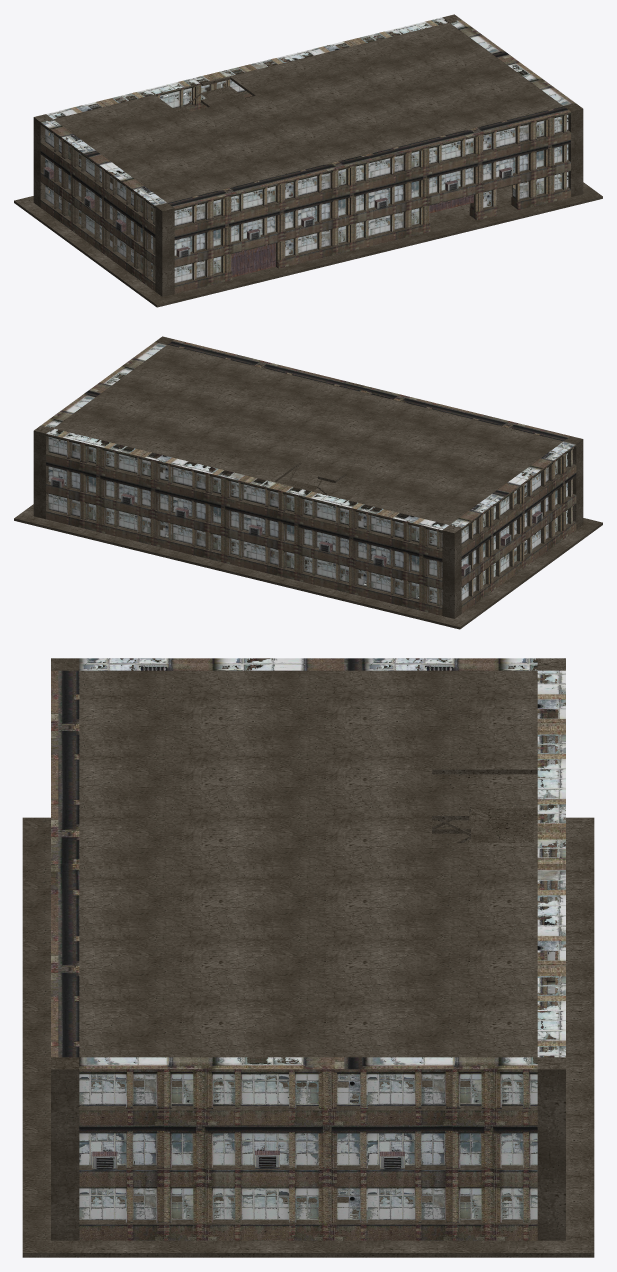
The model's file is BagSS08base_500.fbx.
3 views of the same model, one above another, from view 1: azimuth 30°, elevation 25°; view 2: azimuth 150°, elevation 25°; view 3: azimuth 270°, elevation 25° (orthographic). The views are drawn at different scales.
Visible parts, largest first — view 1: Basefloor500, baseMain500, baseDoorMetal500; view 2: Basefloor500, baseMain500, baseDoorMetal500; view 3: Basefloor500, baseMain500.
Part boxes in pixels (x1,y1,x2,y2): Basefloor500: [14, 14, 602, 307]; baseMain500: [40, 17, 575, 293]; baseDoorMetal500: [44, 166, 512, 277]; Basefloor500: [14, 336, 602, 629]; baseMain500: [41, 339, 576, 615]; baseDoorMetal500: [51, 454, 541, 576]; Basefloor500: [22, 658, 594, 1257]; baseMain500: [51, 658, 565, 1240].
Bounding box in the file's own units: 64.54 × 12.17 × 35.84.
